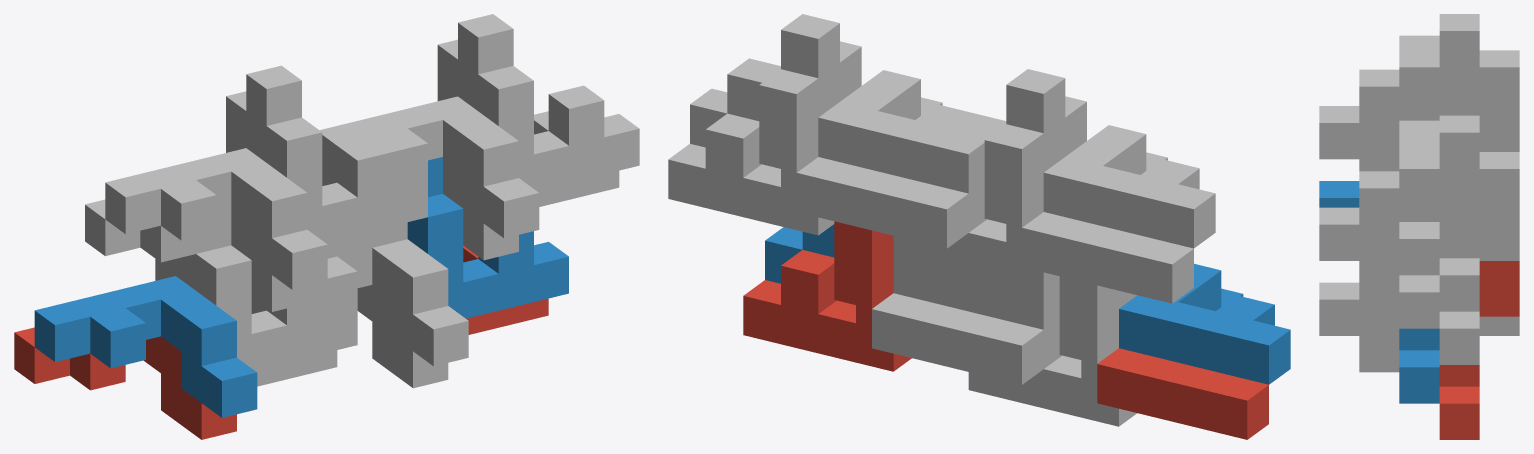
The model's file is tiling.obj.
3 renders of one model, left to right at view 1: azimuth 30°, elevation 25°; view 2: azimuth 150°, elevation 25°; view 3: azimuth 270°, elevation 25°, orthographic. The views are drawn at different scales.
Parts seen in each view (by area): view 1: copy_1_domain_4, copy_1_domain_2, copy_2_domain_8, copy_2_domain_4, copy_1_domain_8, copy_2_domain_2, copy_1_domain_6, copy_2_domain_6, copy_1_domain_1, copy_1_domain_3, copy_1_domain_5, copy_2_domain_7 (+4 smaller); view 2: copy_2_domain_7, copy_2_domain_5, copy_1_domain_4, copy_1_domain_8, copy_1_domain_2, copy_2_domain_3, copy_2_domain_1, copy_1_domain_7, copy_1_domain_3, copy_1_domain_1, copy_1_domain_5, copy_2_domain_8 (+3 smaller); view 3: copy_2_domain_8, copy_2_domain_7, copy_2_domain_4, copy_1_domain_4, copy_1_domain_8, copy_2_domain_5, copy_2_domain_3, copy_1_domain_6, copy_2_domain_6, copy_1_domain_7, copy_1_domain_5, copy_1_domain_2 (+1 smaller).
Part boxes in pixels (x1,y1,x2,y2): copy_1_domain_4: (105,148,327,289); copy_1_domain_2: (34,276,257,417); copy_2_domain_8: (458,14,639,190); copy_2_domain_4: (246,65,427,242); copy_1_domain_8: (319,96,539,238); copy_2_domain_2: (175,208,357,370); copy_1_domain_6: (251,239,468,366); copy_2_domain_6: (407,157,568,318); copy_1_domain_1: (14,327,236,439); copy_1_domain_3: (85,199,307,311); copy_1_domain_5: (357,284,448,388); copy_2_domain_7: (437,39,619,206); copy_2_domain_7: (668,69,834,235); copy_2_domain_5: (743,221,911,371); copy_1_domain_4: (1043,125,1215,248); copy_1_domain_8: (818,70,987,193); copy_1_domain_2: (1119,263,1290,384); copy_2_domain_3: (893,124,1059,290); copy_2_domain_1: (968,276,1136,426); copy_1_domain_7: (796,157,968,248); copy_1_domain_3: (1022,212,1193,303); copy_1_domain_1: (1097,348,1268,439); copy_1_domain_5: (872,293,1043,384); copy_2_domain_8: (690,14,861,147); copy_2_domain_8: (1399,115,1479,328); copy_2_domain_7: (1439,152,1519,364); copy_2_domain_4: (1399,14,1479,137); copy_1_domain_4: (1319,35,1439,159); copy_1_domain_8: (1319,137,1439,260); copy_2_domain_5: (1439,261,1519,439); copy_2_domain_3: (1439,50,1519,139); copy_1_domain_6: (1319,282,1399,335); copy_2_domain_6: (1399,328,1439,403); copy_1_domain_7: (1359,241,1519,297); copy_1_domain_5: (1359,316,1519,372); copy_1_domain_2: (1319,181,1359,207).
Bounding box in the file's own units: 16 × 8 × 5.
